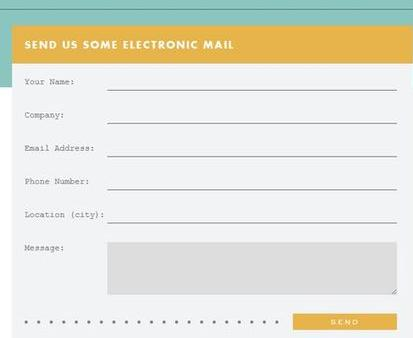button: (290, 312, 398, 331)
field: (103, 240, 397, 297)
field_line: (104, 73, 400, 93), (104, 139, 400, 159), (104, 206, 400, 225), (104, 107, 401, 125), (104, 174, 399, 191)
field_line_with_label: (24, 238, 399, 298), (24, 70, 402, 94), (24, 137, 402, 160), (26, 203, 401, 226), (24, 105, 402, 126), (25, 172, 401, 192)
